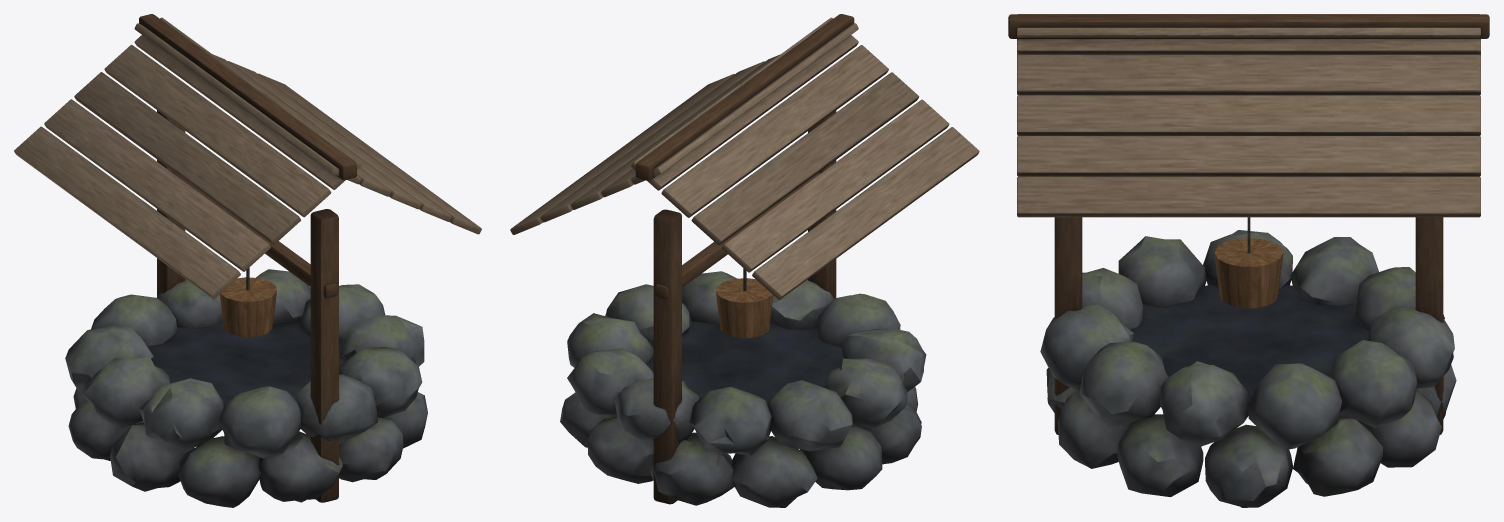
File: well.glb
3 views of the same model, side by side, from view 1: azimuth 30°, elevation 25°; view 2: azimuth 150°, elevation 25°; view 3: azimuth 270°, elevation 25° (orthographic). The views are drawn at different scales.
Visible parts, largest first — view 1: well; view 2: well; view 3: well.
Boxes of the visible parts, left/top/right/bottom form: well: left=14, top=14, right=481, bottom=507; well: left=510, top=14, right=979, bottom=507; well: left=1008, top=14, right=1489, bottom=507.
Bounding box in the file's own units: 2.51 × 2.69 × 2.8.
1 material, 1 textured.
